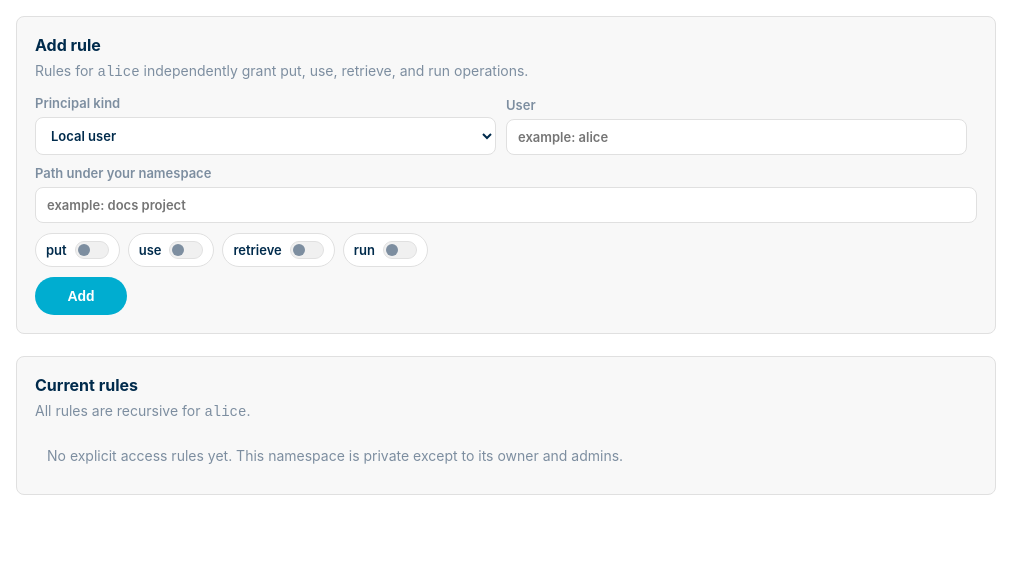
Test: AccessPanel › rejects a multi-token local User without clearing the input
Expected: the text "No explicit access rules yet. This namespace is private except to its owner and admins." is shown, [47,447,623,464]
Select "Local user" in the dropdown labelled "Principal kind" at (266, 136), box [35,117,496,155]
Type "alice bob" into the field labelled "User" at (736, 137), box [506,119,967,155]
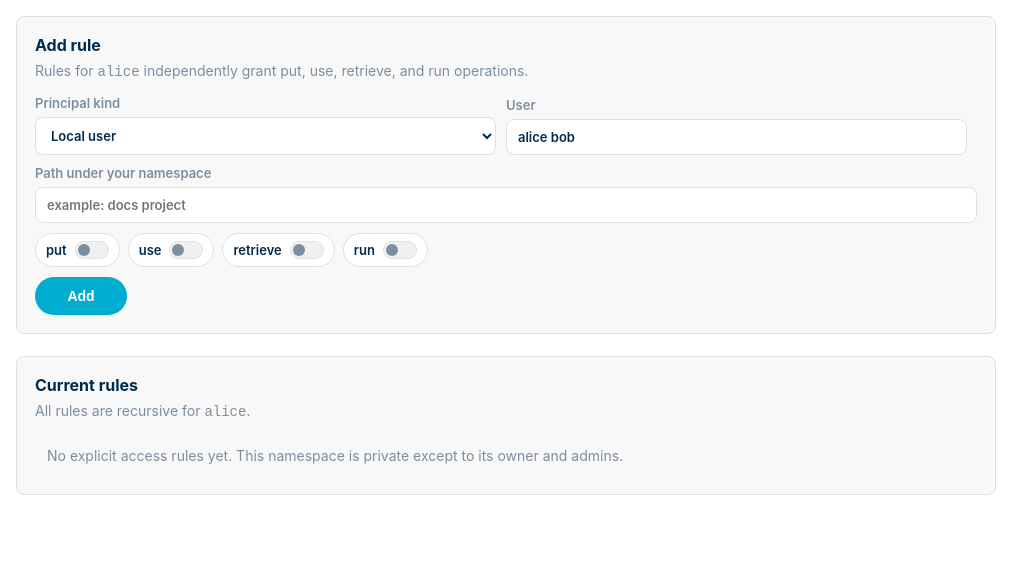
Click the checkbox labelled "use" at (171, 250), box [139,241,204,259]
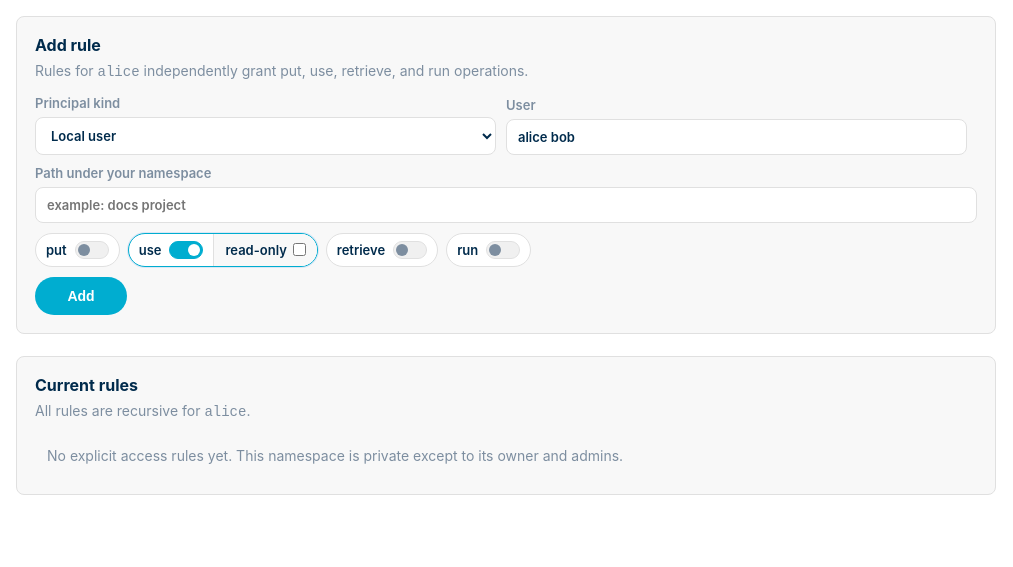
Click the checkbox labelled "read-only" at (299, 250), box [293,243,306,256]
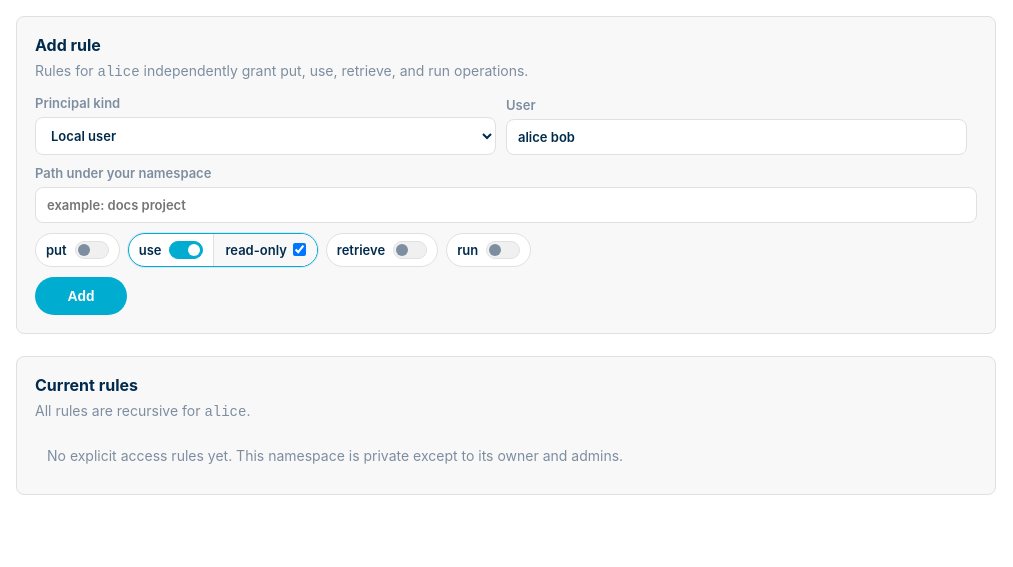
Click the button "Add" at (81, 296), box [35,277,127,315]
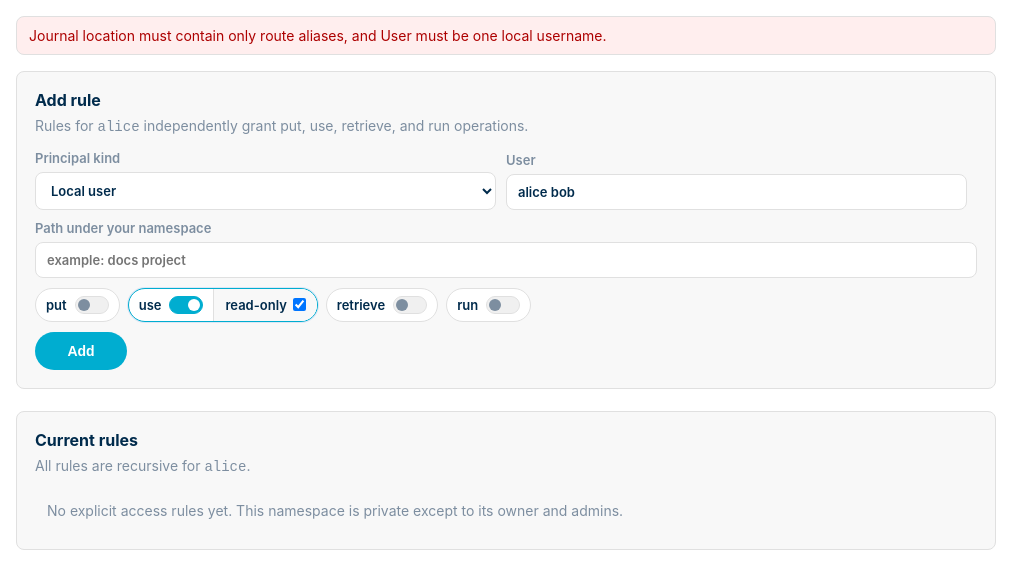
Expected: the text "Journal location must contain only route aliases, and User must be one local username." is shown, [29,27,606,44]
